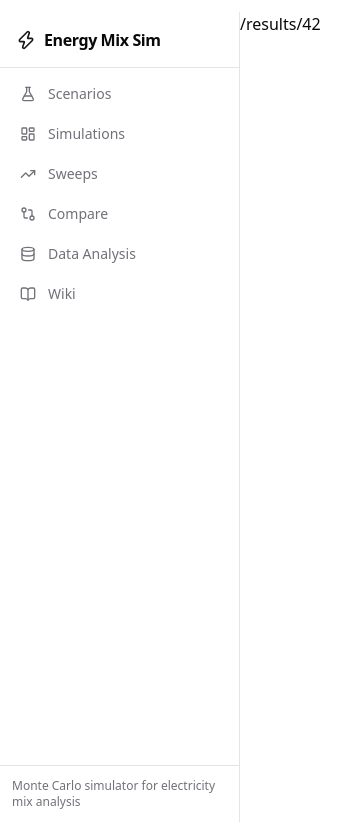
Test: AppShell navigation › navigates to /compare from a deep route like /results/:id
The image size is (337, 822).
Click the link "Compare": click(64, 214) [20,204,108,223]
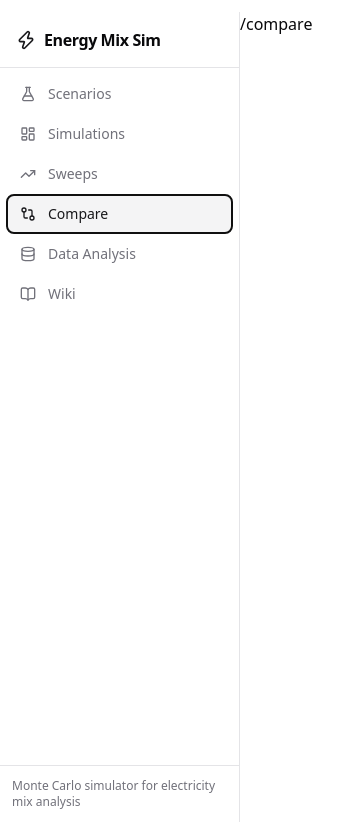
Result: the text with test id "location" reads "/compare" at [240,13,312,35]
